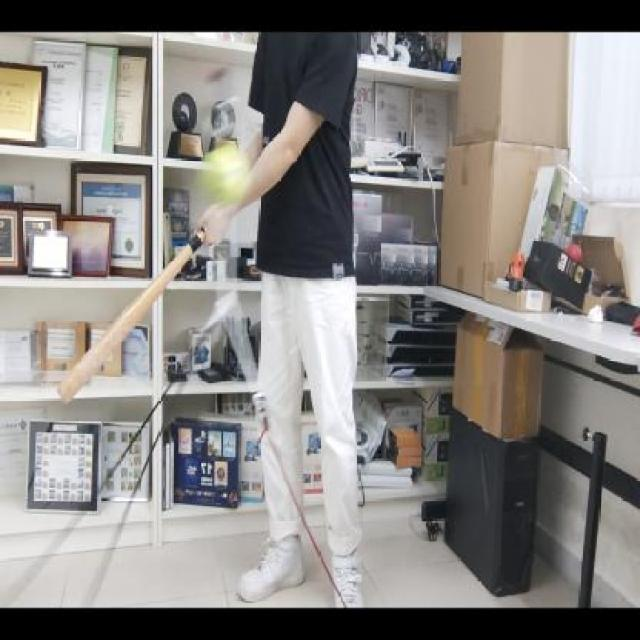baseball: (198, 144, 252, 208)
